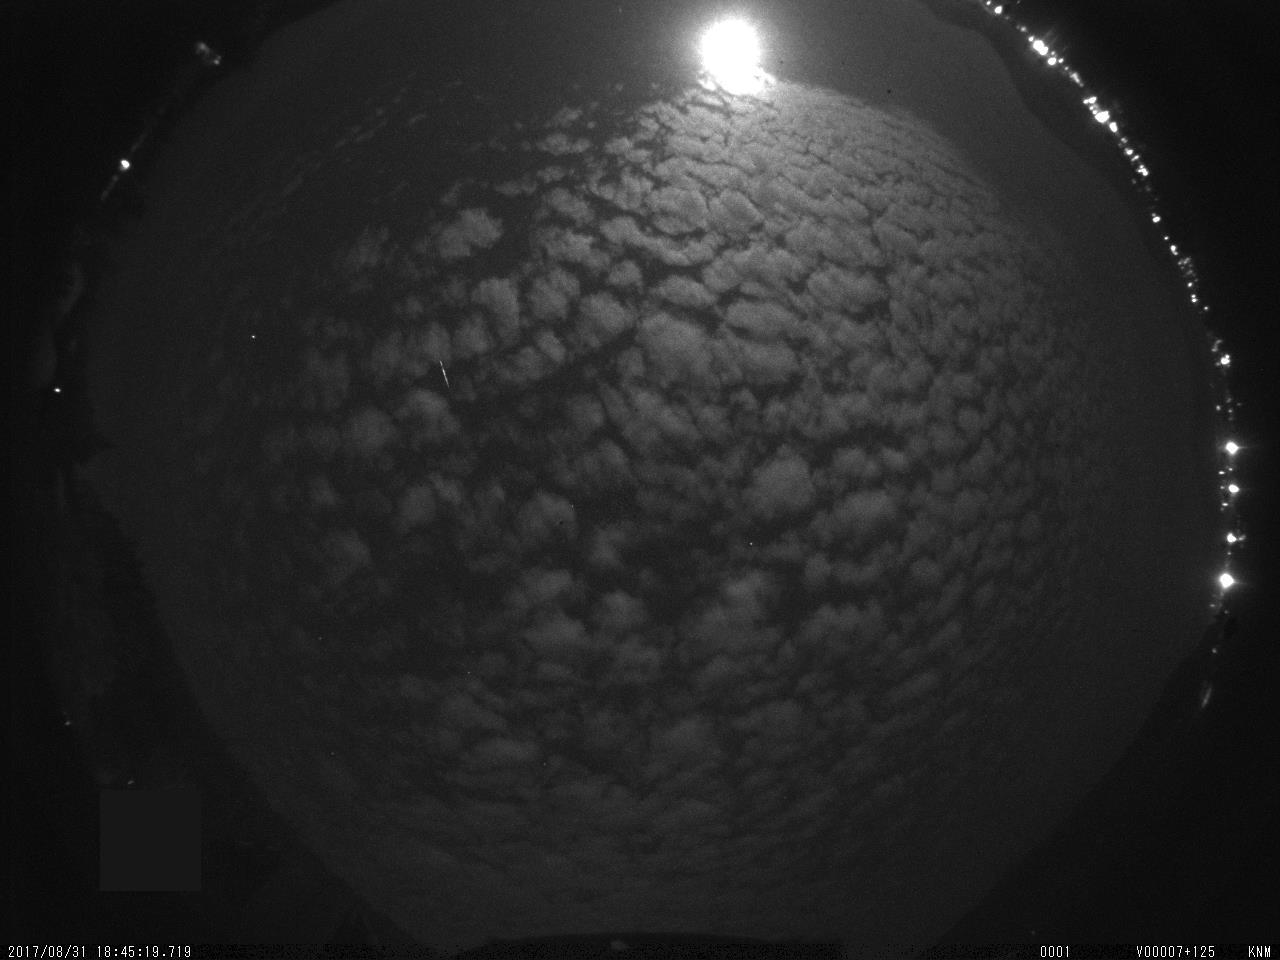meteor: (428, 355, 456, 390)
